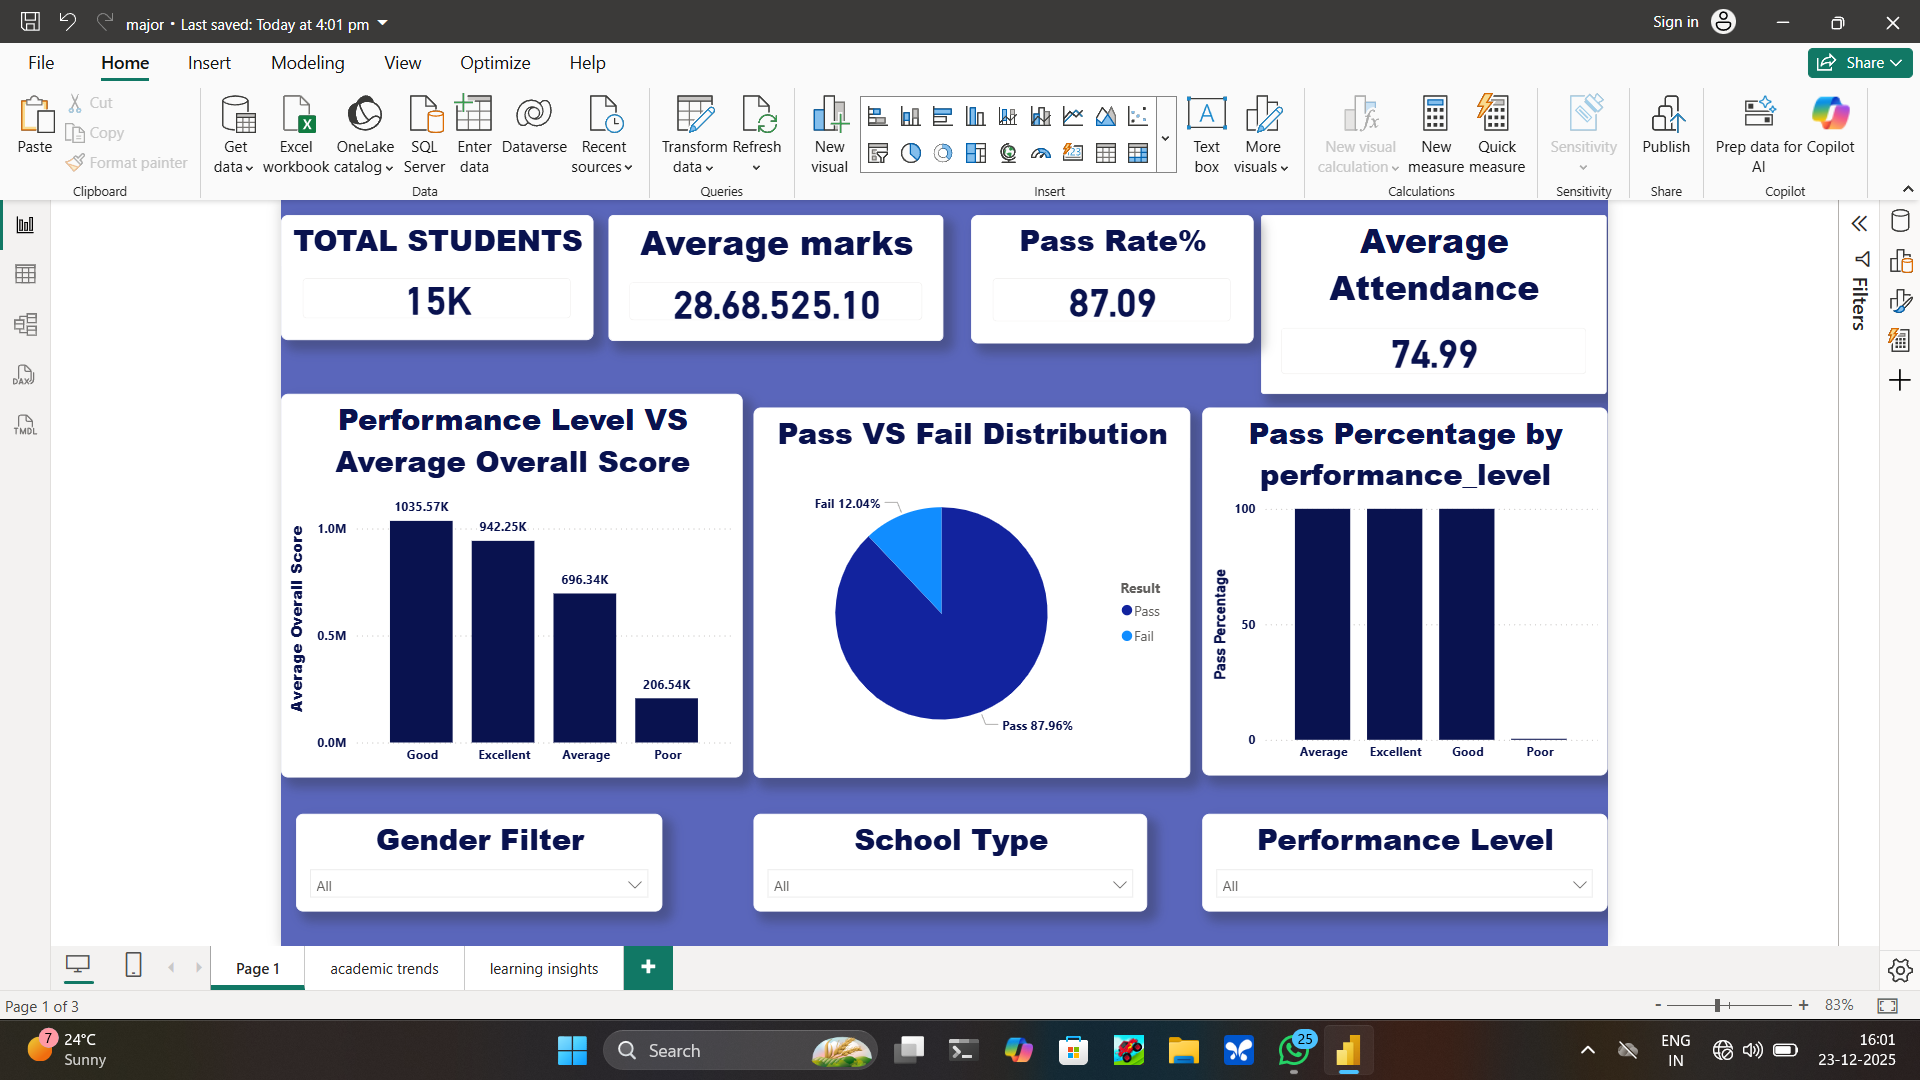

This screenshot's page, from the dashboard's own definition file:
{"tool":"powerbi","page":{"name":"Page 1","canvas":[1280,720],"ordinal":0},"visuals":[{"type":"cardVisual","title":"TOTAL STUDENTS","fields":{"Data":["education database.Total Students"]},"box":[0,14.4,301.5,121.2],"z":0},{"type":"cardVisual","title":"Average marks ","fields":{"Data":["Sum(education database.avg_marks)"]},"box":[316.1,14.5,323.3,121.9],"z":1000},{"type":"cardVisual","title":"Average Attendance","fields":{"Data":["education database.Avg Attendance"]},"box":[946.5,14.4,333.3,173.1],"z":2000},{"type":"cardVisual","title":"Pass Rate%","fields":{"Data":["education database.Pass Percentage"]},"box":[666.6,14.4,272.7,124.1],"z":3000},{"type":"clusteredColumnChart","title":"Performance Level VS Average Overall Score","fields":{"Category":["education database.performance_level"],"Y":["Sum(education database.overall_score)"]},"box":[0,187.6,445.8,370.8],"z":4000},{"type":"pieChart","title":"Pass VS Fail Distribution","fields":{"Category":["education database.Result"],"Y":["Sum(education database.student_id)"]},"box":[455.9,200.5,421.3,357.8],"z":5000},{"type":"clusteredColumnChart","fields":{"Category":["education database.performance_level"],"Y":["education database.Pass Percentage"]},"box":[888.7,200.5,391,354.9],"z":6000},{"type":"slicer","title":"Gender Filter","fields":{"Values":["education database.gender"]},"box":[14.5,592.4,353.5,94.1],"z":7000},{"type":"slicer","title":"School Type","fields":{"Values":["education database.school_type"]},"box":[456,592.4,380,94.1],"z":8000},{"type":"slicer","title":"Performance Level","fields":{"Values":["education database.performance_level"]},"box":[889.1,592.4,390.9,94.1],"z":9000}]}

Visuals, with their boxes on the page's 1280x720 design canvas (x1, y1, x2, y2). These are canvas units, not pixel positions in the 1920x1080 screenshot, which may show the page scaled, cropped or inside an application window:
"TOTAL STUDENTS" cardVisual: bbox=[0, 14, 302, 136]
"Average marks " cardVisual: bbox=[316, 14, 639, 136]
"Average Attendance" cardVisual: bbox=[946, 14, 1280, 188]
"Pass Rate%" cardVisual: bbox=[667, 14, 939, 138]
"Performance Level VS Average Overall Score" clusteredColumnChart: bbox=[0, 188, 446, 558]
"Pass VS Fail Distribution" pieChart: bbox=[456, 200, 877, 558]
clusteredColumnChart - education database.performance_level x education database.Pass Percentage: bbox=[889, 200, 1280, 555]
"Gender Filter" slicer: bbox=[14, 592, 368, 686]
"School Type" slicer: bbox=[456, 592, 836, 686]
"Performance Level" slicer: bbox=[889, 592, 1280, 686]
